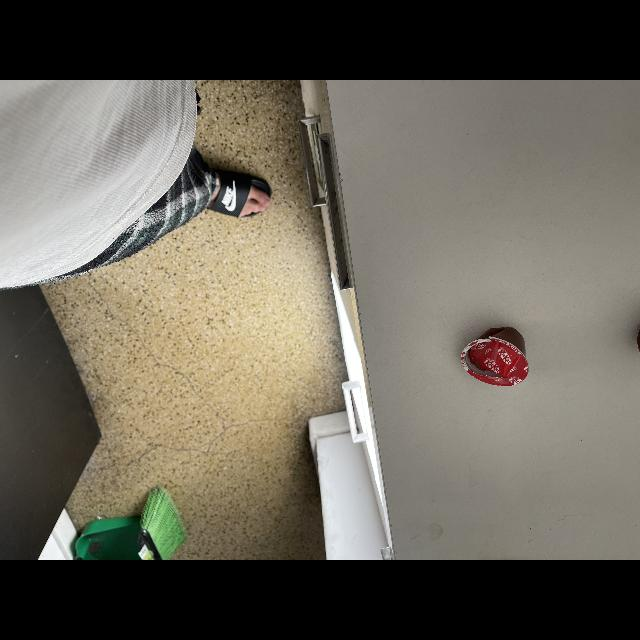damaged_capsule: (458, 317, 534, 401)
